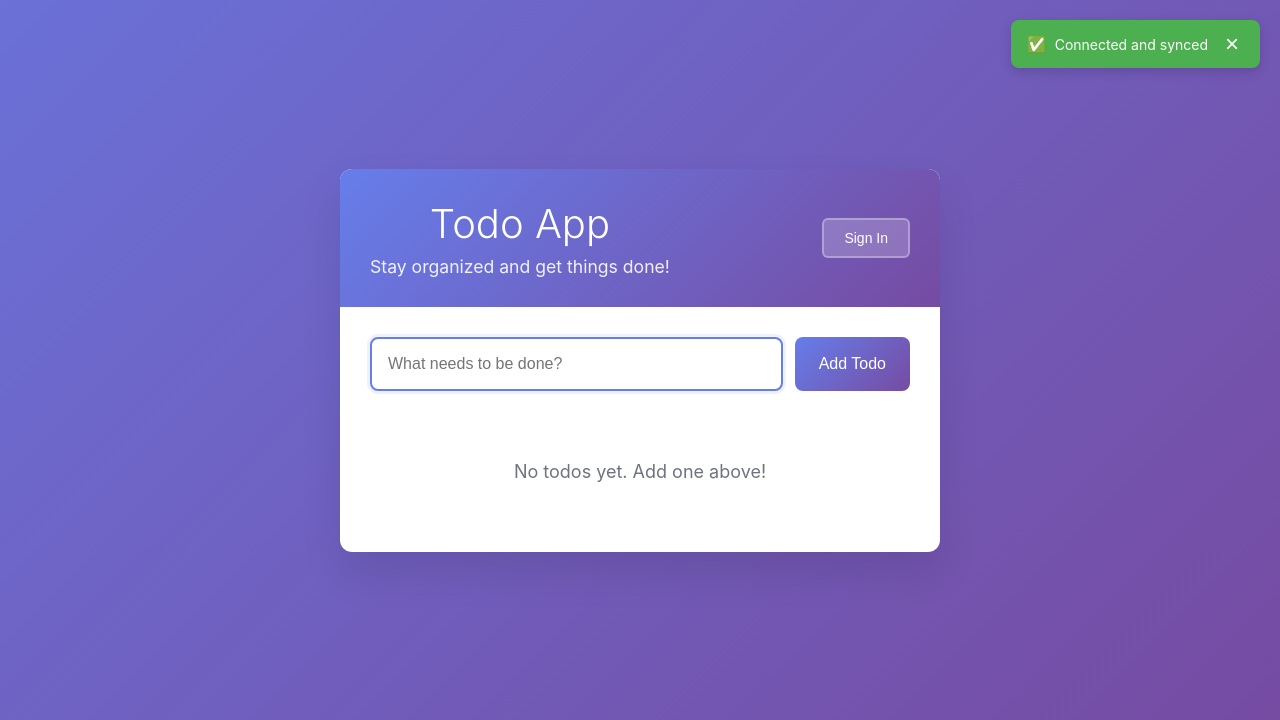
Todo App Integration Tests › edit mode: Escape cancels edit, Enter saves edit
(page scrolled)
Step 1. Type "Original text" into the field with placeholder "What needs to be done?" → (576, 364), box [370,336,783,390]
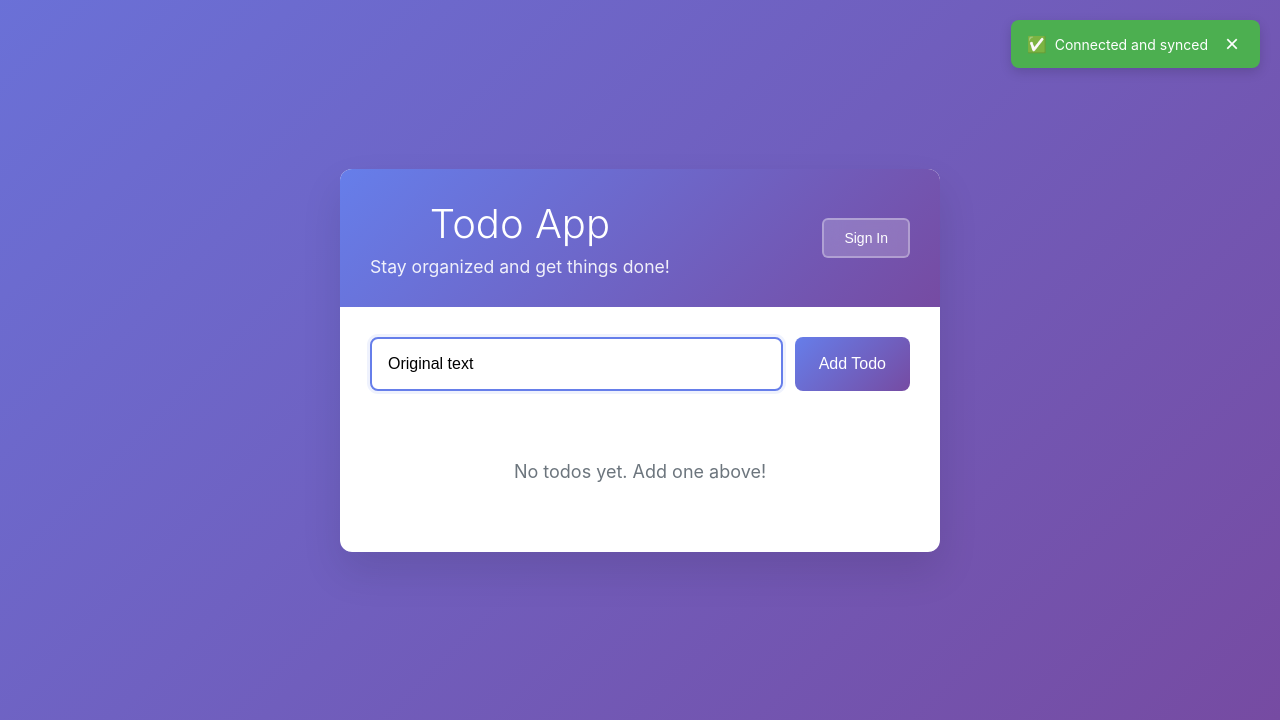
Step 2. Click the button "Add Todo" → (852, 364), box [795,336,910,390]
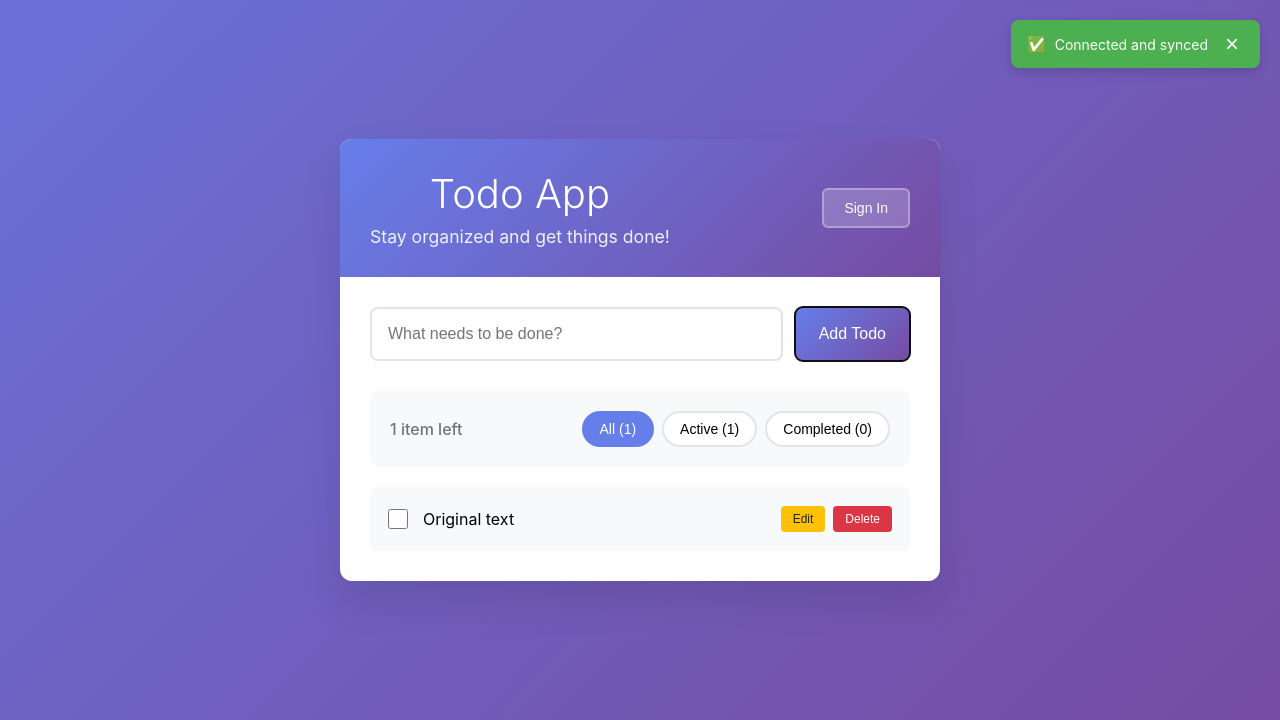
Enter edit mode
Step 3. Click the button "Edit" → (803, 519), box [781,506,825,532]
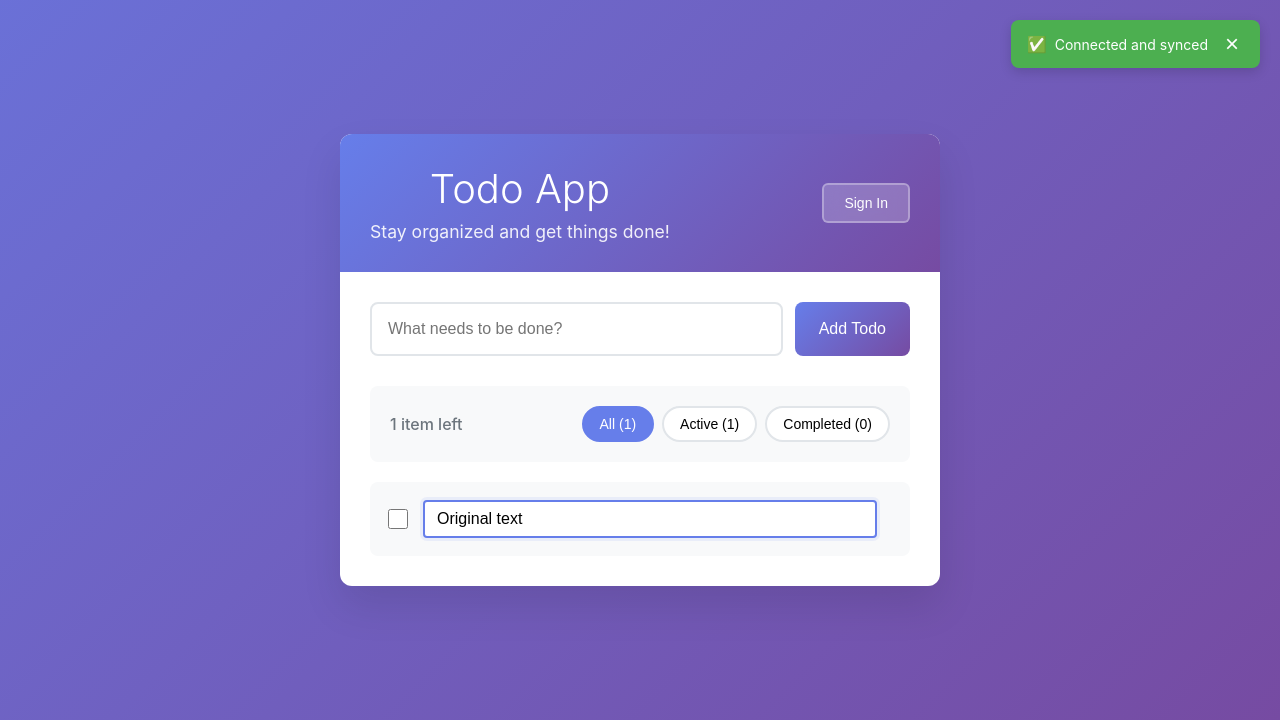
Change text and press Escape
Step 4. Replace the text in the field showing "Original text" with "Changed text" → (650, 519), box [423,500,877,538]
Then press Escape
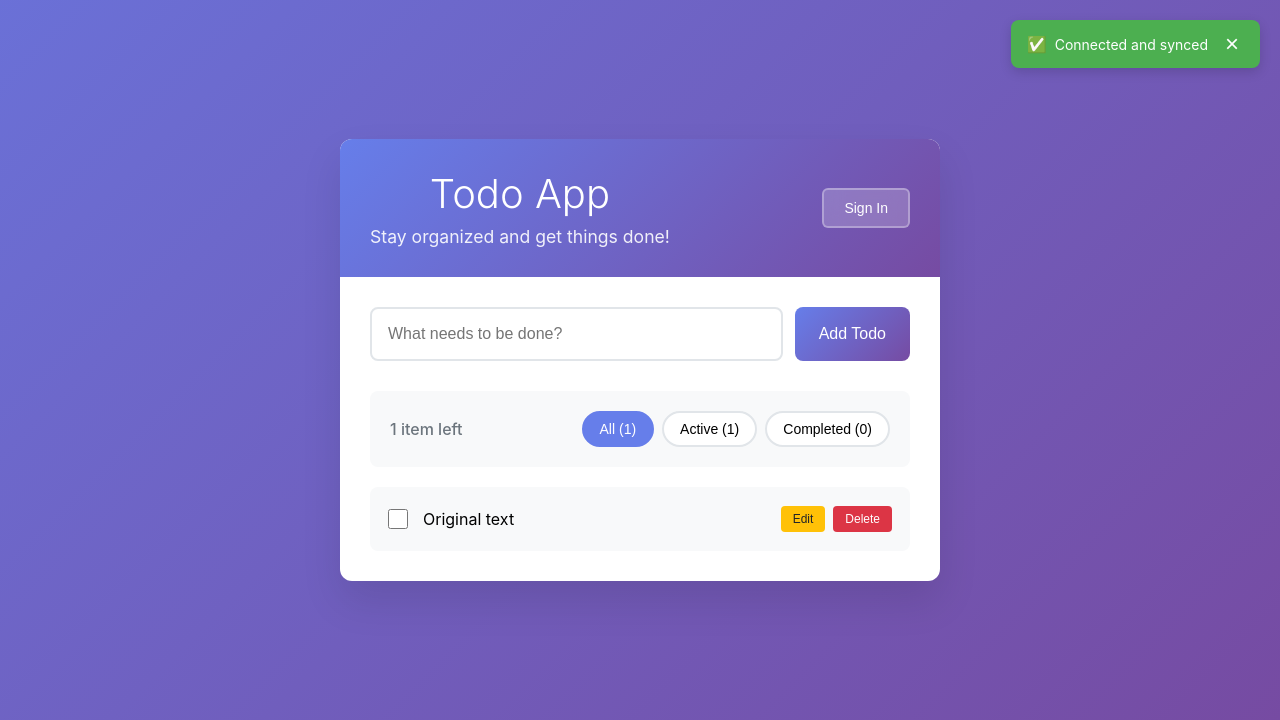
Expected: the text "Original text" is shown, [423,509,514,529]
Enter edit mode again
Step 5. Click the button "Edit" → (803, 519), box [781,506,825,532]
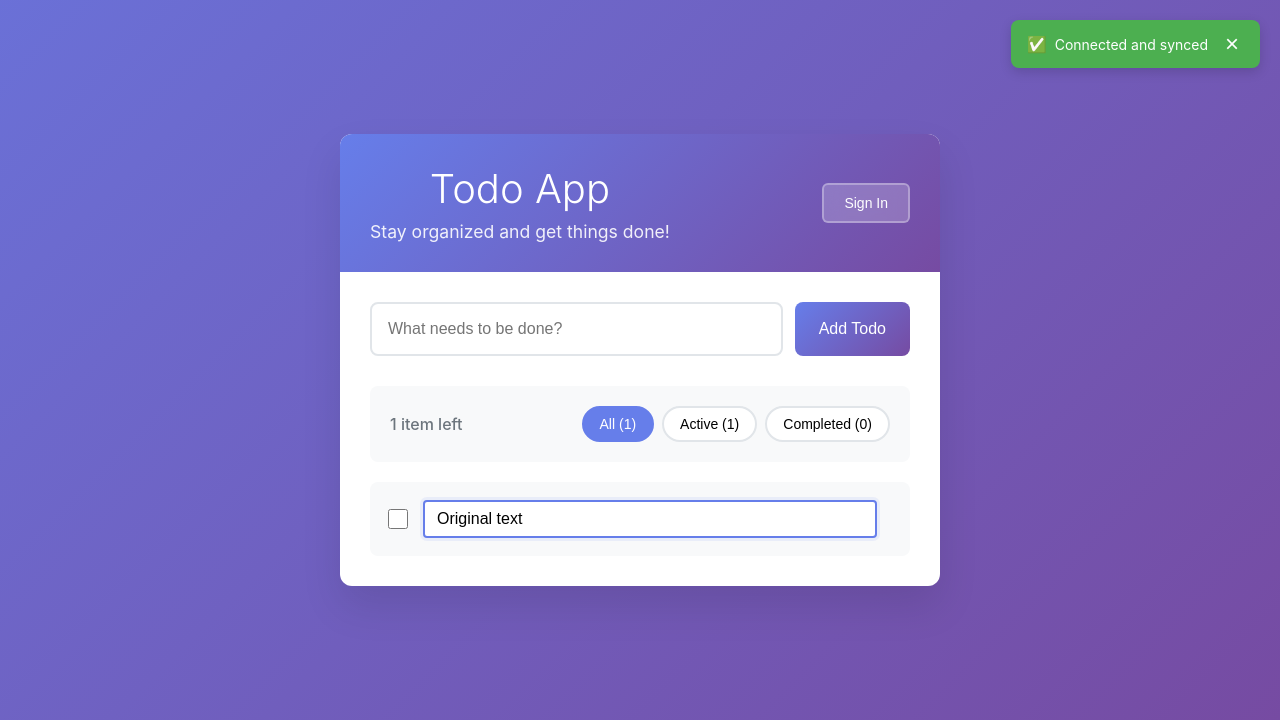
Change text and press Enter
Step 6. Replace the text in the field showing "Original text" with "Updated text" → (650, 519), box [423,500,877,538]
Then press Enter
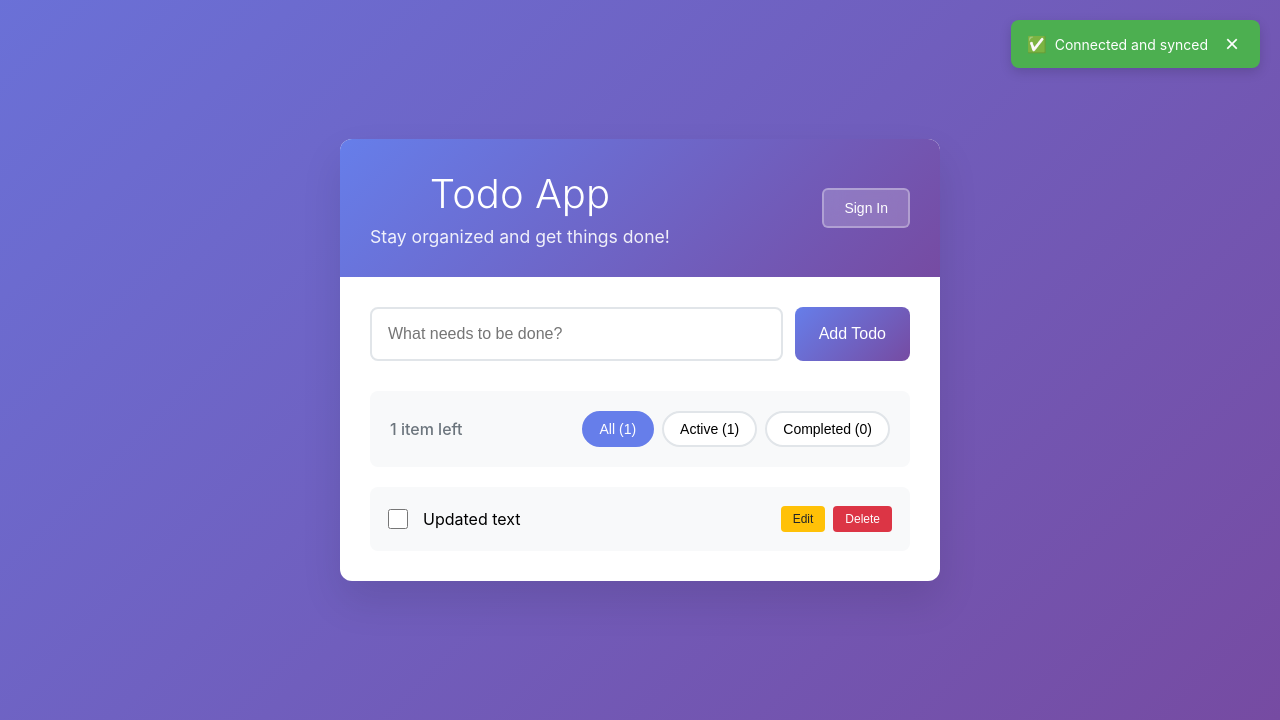
Expected: the text "Original text" is not shown
Expected: the text "Updated text" is shown, [423,509,520,529]
